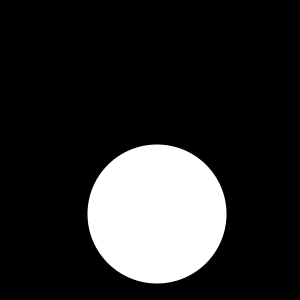rectangle: (87, 144, 226, 284)
triangle: (130, 172, 189, 231)
